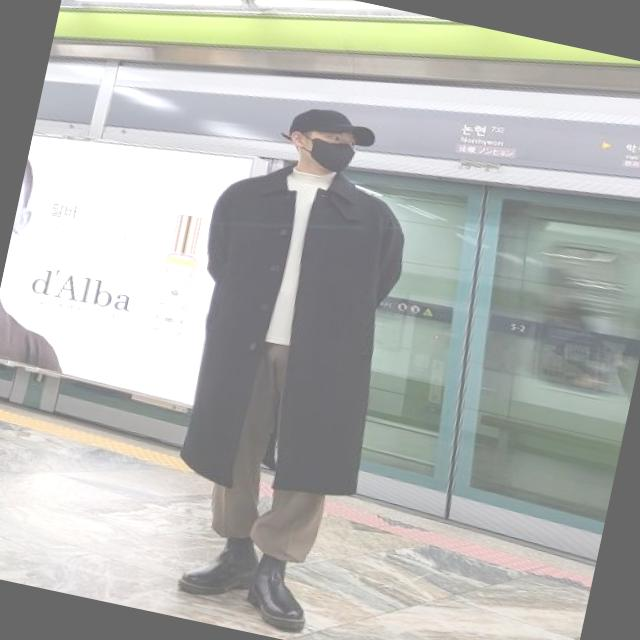coat: (154, 147, 424, 515)
slacks: (184, 326, 356, 571)
